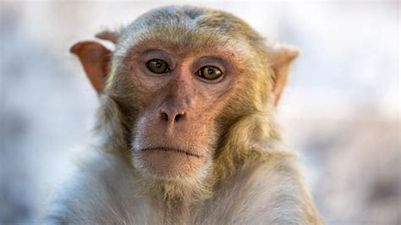monkey: (44, 12, 365, 185)
